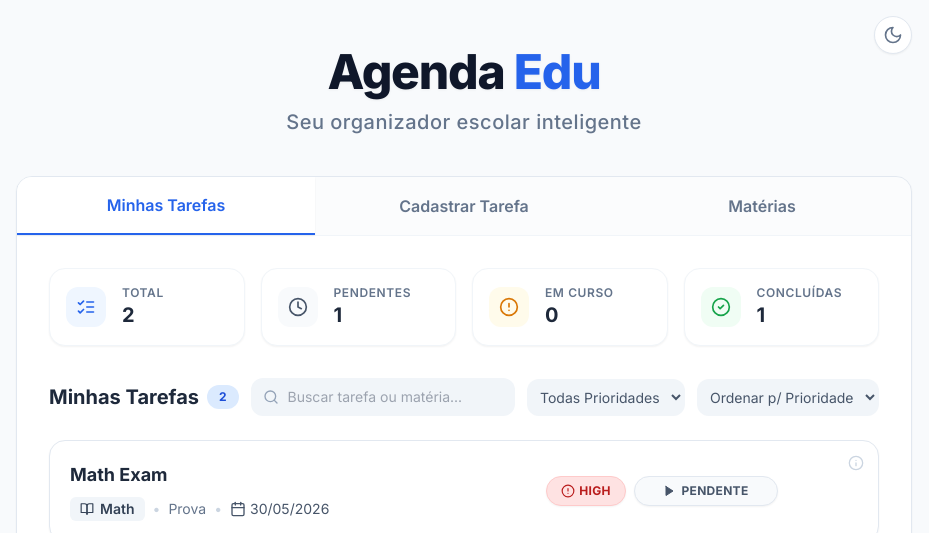
Test: HomePage › switches tabs between list and creation
Click the button "Cadastrar Tarefa". click: click(464, 206)
box: [315, 177, 613, 235]
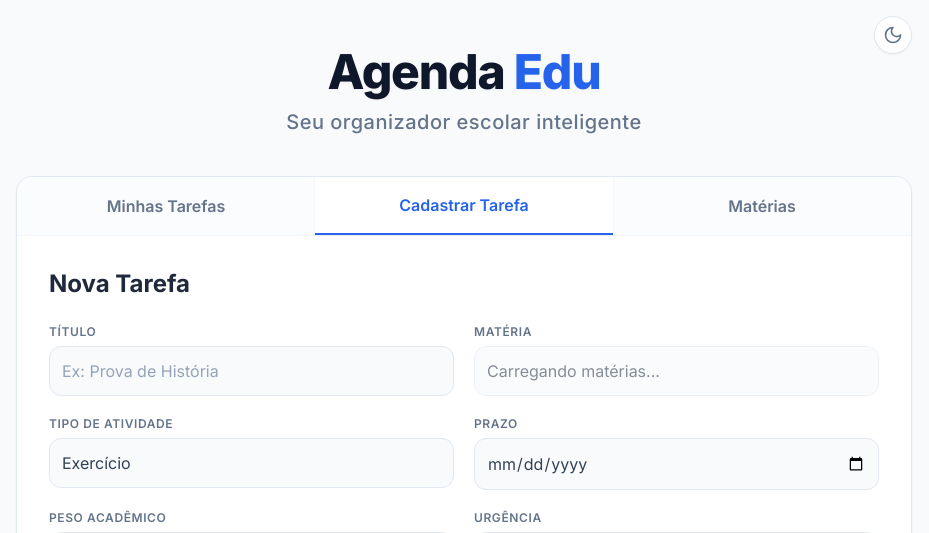
Expected: the heading "Nova Tarefa" is shown, [49, 269, 190, 298]
Expected: the heading "Math Exam" is gone
Click the button "Minhas Tarefas". click: click(166, 206)
box: [17, 177, 315, 235]
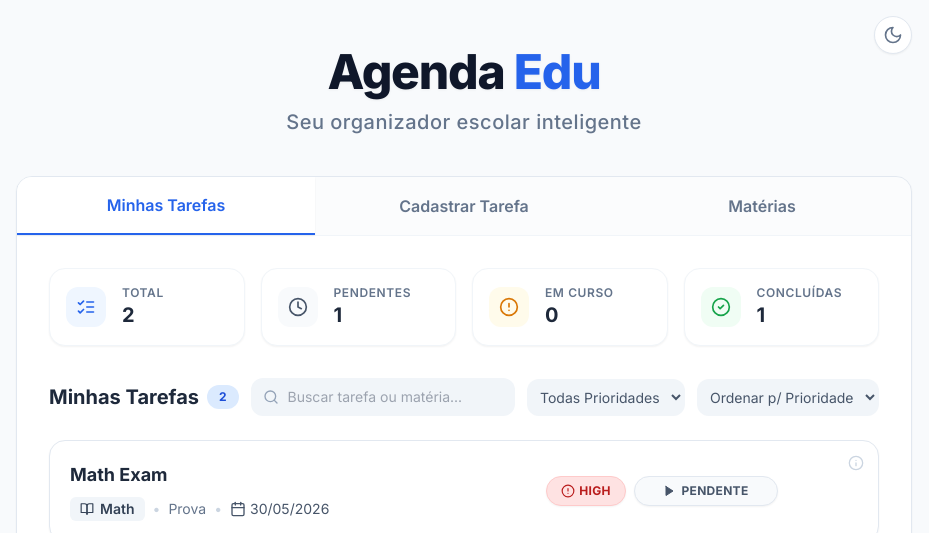
Expected: the heading "Math Exam" is shown, [70, 464, 168, 485]
